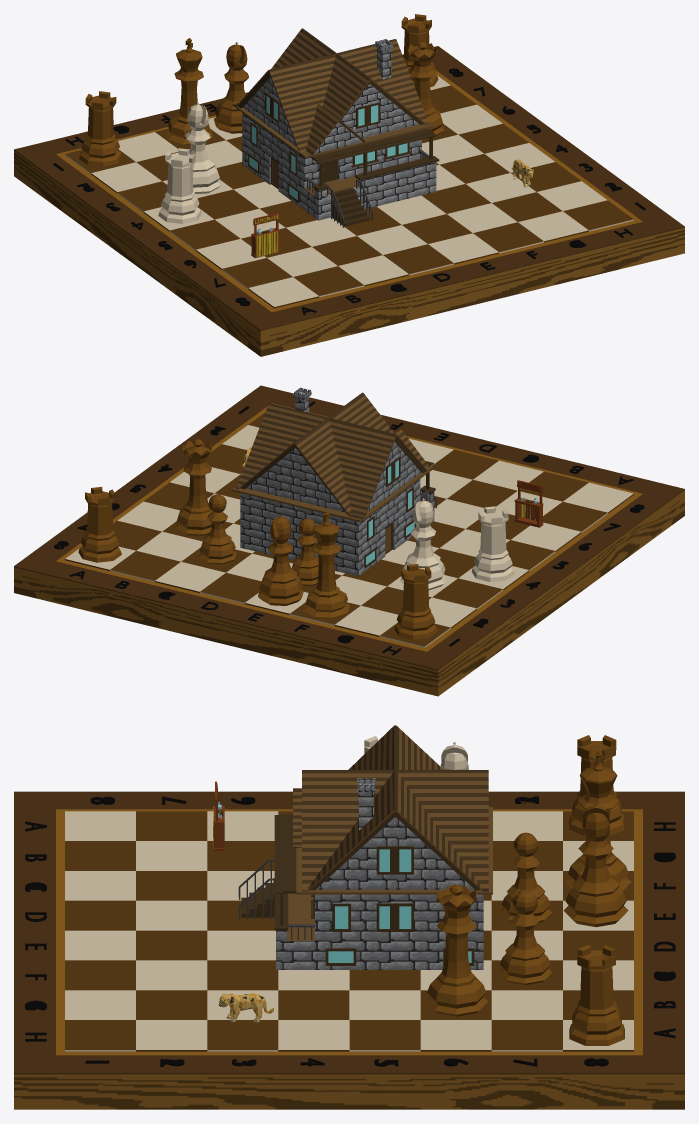
3 views of the same model, one above another, from view 1: azimuth 30°, elevation 25°; view 2: azimuth 150°, elevation 25°; view 3: azimuth 270°, elevation 25° (orthographic). The views are drawn at different scales.
Parts seen in each view (by area): view 1: Cube.002, Cube.586, OBJRANDOM_LEMONADE_STAND; view 2: Cube.002, Cube.586, OBJRANDOM_LEMONADE_STAND; view 3: Cube.002, Cube.586, ANIMAL_JAGUAR, OBJRANDOM_LEMONADE_STAND.
Part boxes in pixels (box(x1,y1,x2,y2)): Cube.002: box(14, 14, 684, 356); Cube.586: box(232, 28, 439, 227); OBJRANDOM_LEMONADE_STAND: box(251, 212, 279, 258); Cube.002: box(14, 385, 684, 696); Cube.586: box(232, 387, 436, 576); OBJRANDOM_LEMONADE_STAND: box(514, 480, 543, 527); Cube.002: box(14, 735, 684, 1109); Cube.586: box(238, 725, 492, 969); ANIMAL_JAGUAR: box(218, 993, 273, 1022); OBJRANDOM_LEMONADE_STAND: box(213, 781, 224, 851).
Size of the model in its own units: 3981 by 1594 by 4012.
Materials: 28 (3 with a texture image).
